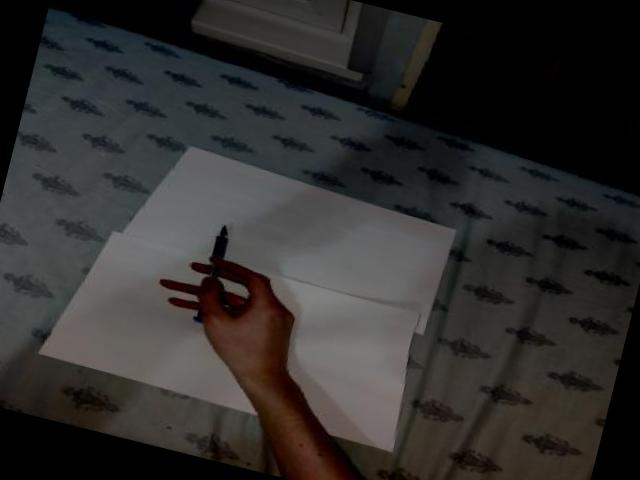PEN: (182, 219, 247, 341)
